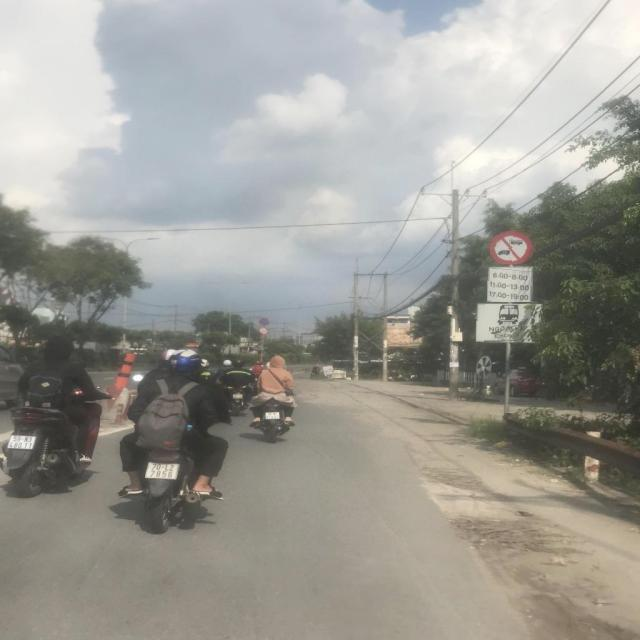107-cam-oto-khach-va-oto-tai: (490, 229, 534, 264)
